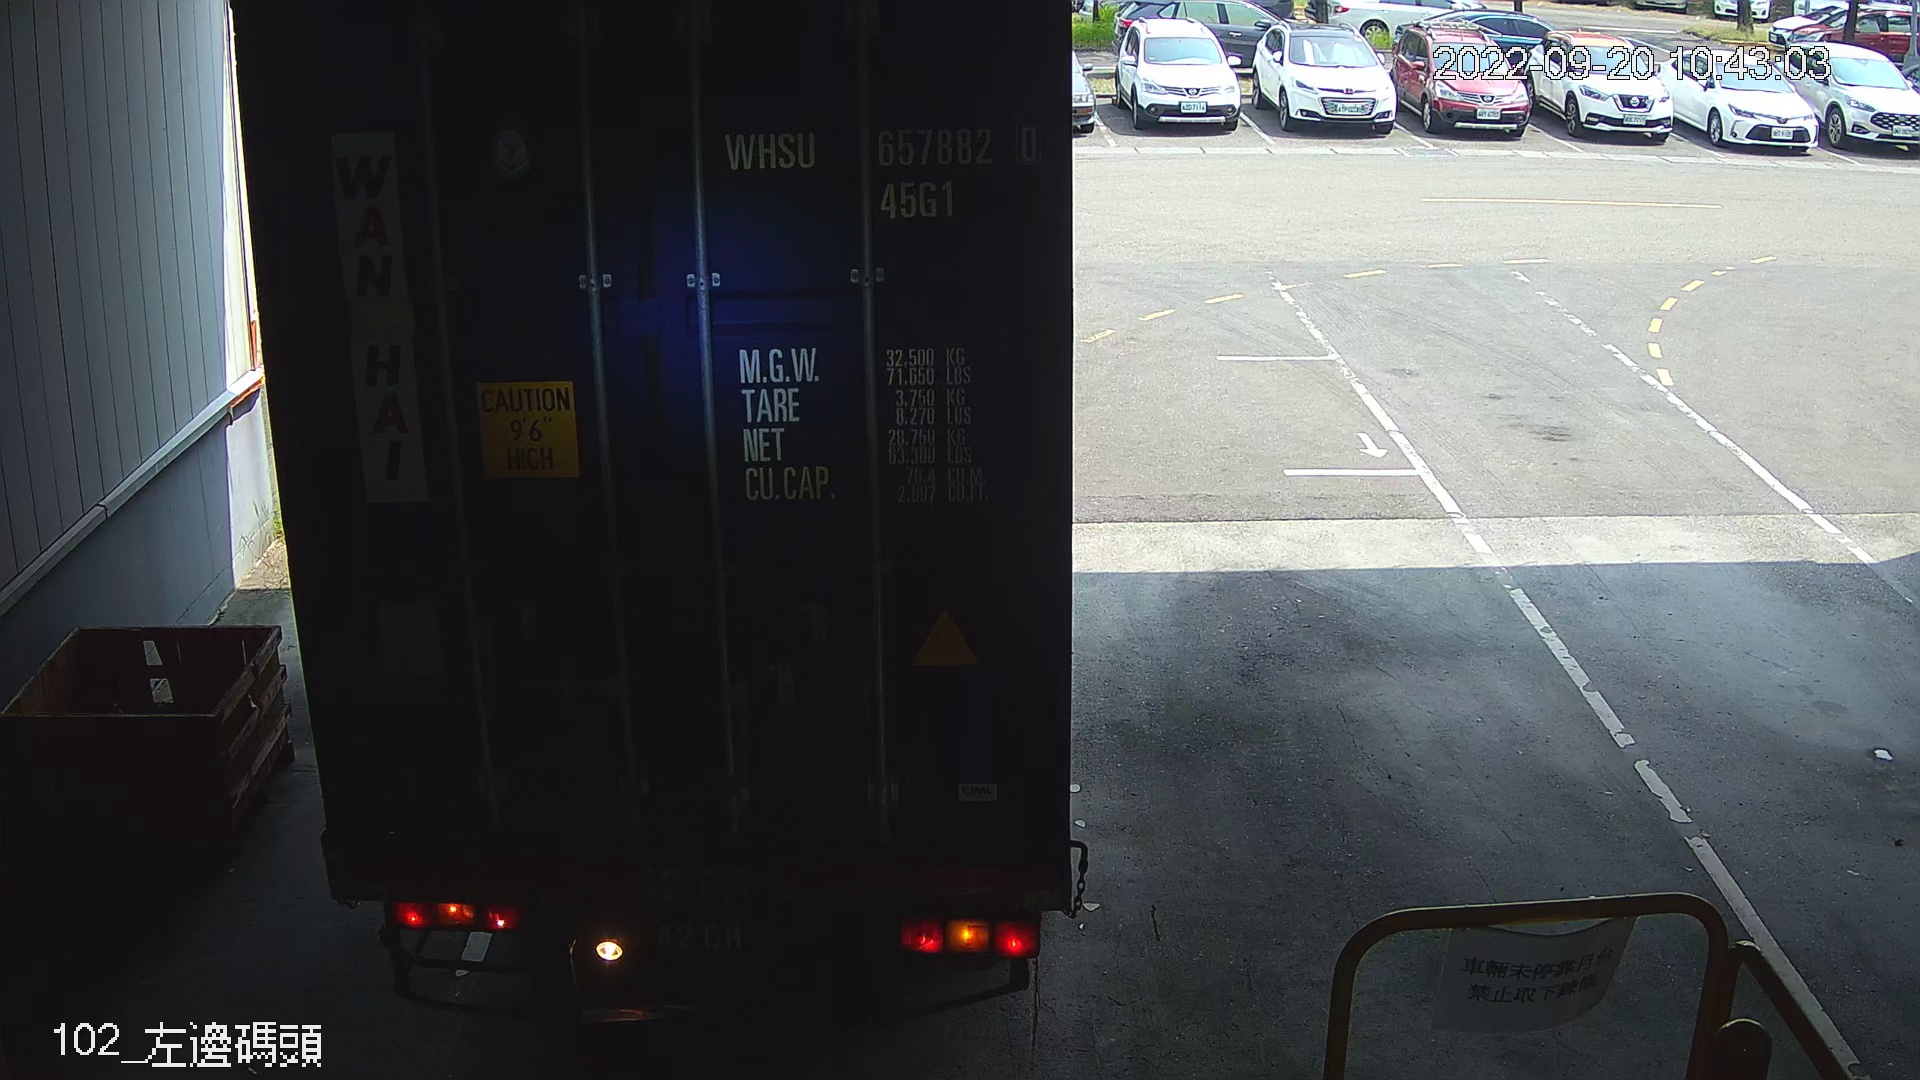container: (712, 113, 1048, 232)
